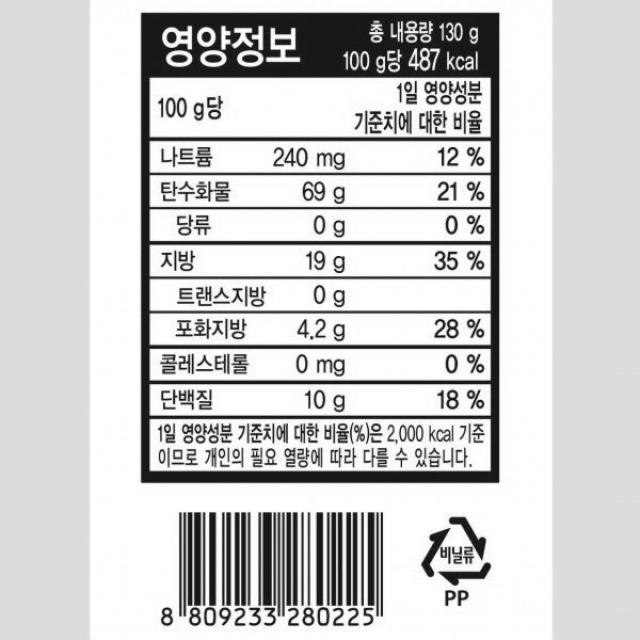Nutrition Label: (130, 5, 509, 491)
